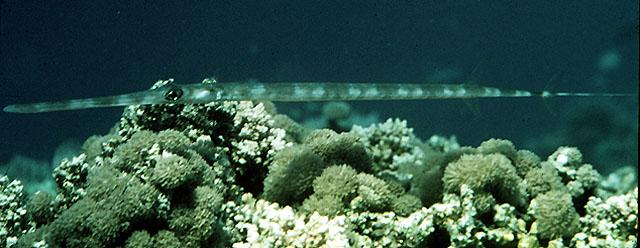Fistularia commersonii: (9, 44, 640, 160)
